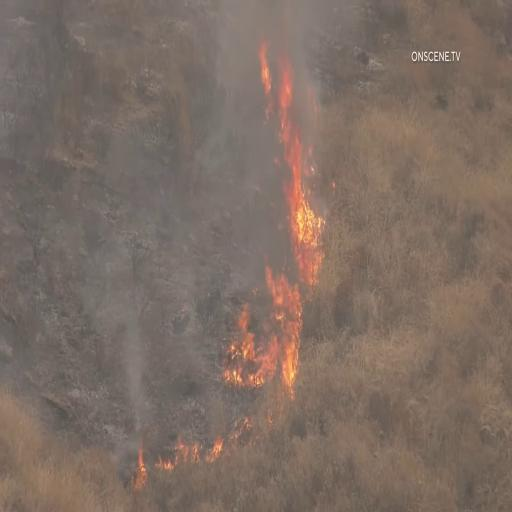fire: (275, 48, 332, 284), (225, 228, 301, 403)
